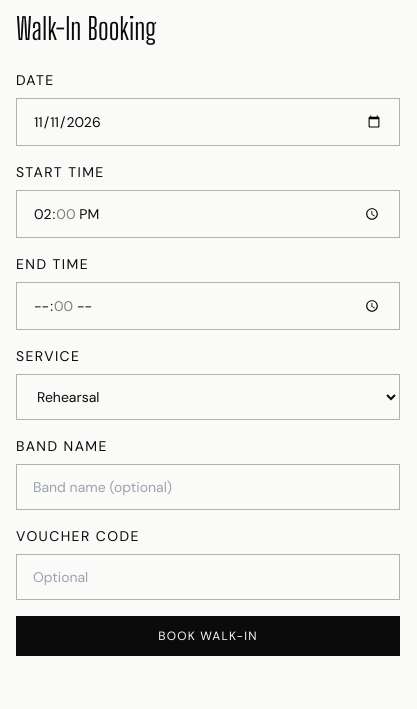
names every walk-in field and announces incomplete submission
Expected: the date field labelled "Date" is shown, [16,98,400,146]
Expected: the time field labelled "Start Time" is shown, [16,190,400,238]
Click the button "Book Walk-In".
click(208, 636)  # box [16,616,400,656]
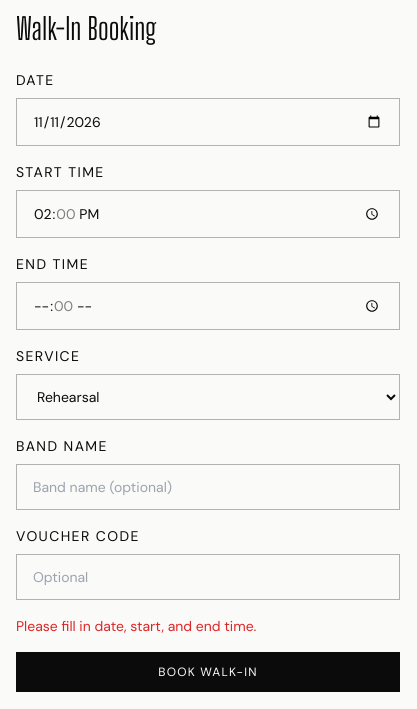
Result: the message shows "Please fill in" at [16,617,256,635]
